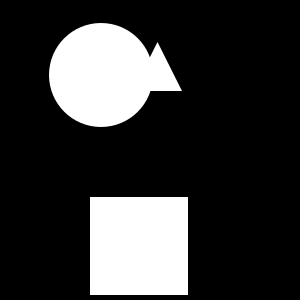circle: (90, 197, 188, 295)
rectangle: (49, 23, 153, 127)
triangle: (133, 42, 182, 91), (102, 57, 140, 95)
